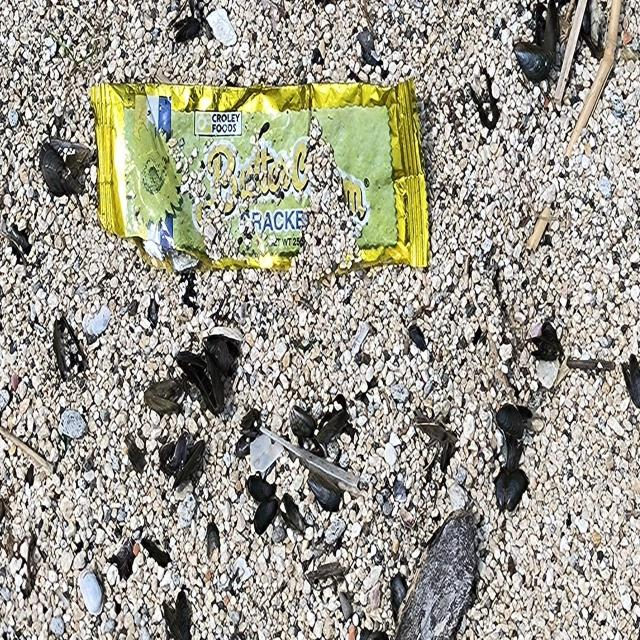plastic_waste: (96, 81, 434, 278)
